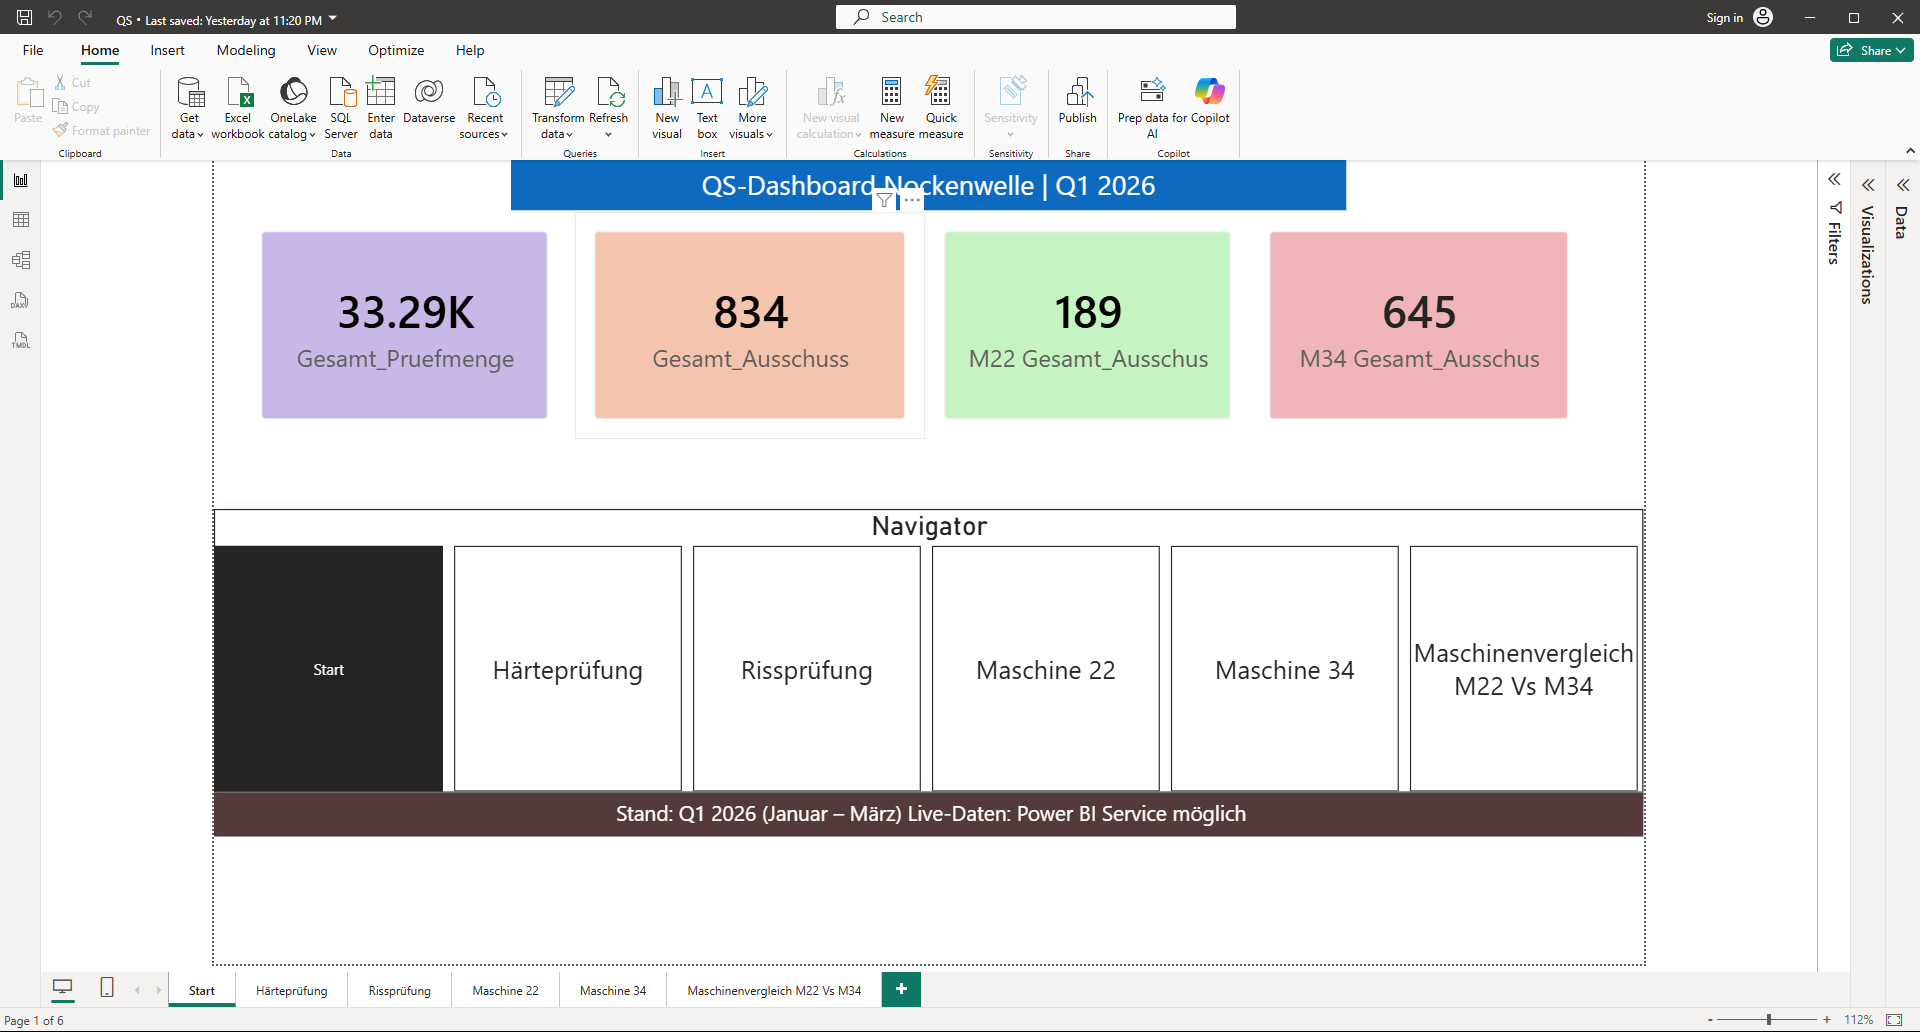

The page's visual inventory and layout, read from the dashboard file:
{"tool":"powerbi","page":{"name":"Start","canvas":[1280,720],"ordinal":0},"visuals":[{"type":"textbox","box":[266,0,747.8,44.8],"z":0},{"type":"cardVisual","fields":{"Data":["Datumstabelle.Gesamt_Pruefmenge"]},"box":[25.1,46.6,291,203.3],"z":1000},{"type":"cardVisual","fields":{"Data":["Datumstabelle.Gesamt_Ausschuss"]},"box":[323.3,46.6,313.4,203.3],"z":2000},{"type":"cardVisual","fields":{"Data":["Datumstabelle.M34 Gesamt_Ausschus"]},"box":[927.8,46.6,302.7,203.3],"z":3000},{"type":"cardVisual","fields":{"Data":["Datumstabelle.M22 Gesamt_Ausschus"]},"box":[636.7,46.6,291,203.3],"z":4000},{"type":"pageNavigator","title":"Navigator","box":[0,312.5,1279.7,254.3],"z":5000},{"type":"textbox","box":[0,566.9,1279.7,38.5],"z":6000}]}

Visuals, with their boxes on the page's 1280x720 design canvas (x1, y1, x2, y2). These are canvas units, not pixel positions in the 1920x1032 screenshot, which may show the page scaled, cropped or inside an application window:
textbox: l=266, t=0, r=1014, b=45
cardVisual - Datumstabelle.Gesamt_Pruefmenge: l=25, t=47, r=316, b=250
cardVisual - Datumstabelle.Gesamt_Ausschuss: l=323, t=47, r=637, b=250
cardVisual - Datumstabelle.M34 Gesamt_Ausschus: l=928, t=47, r=1230, b=250
cardVisual - Datumstabelle.M22 Gesamt_Ausschus: l=637, t=47, r=928, b=250
"Navigator" pageNavigator: l=0, t=312, r=1280, b=567
textbox: l=0, t=567, r=1280, b=605
